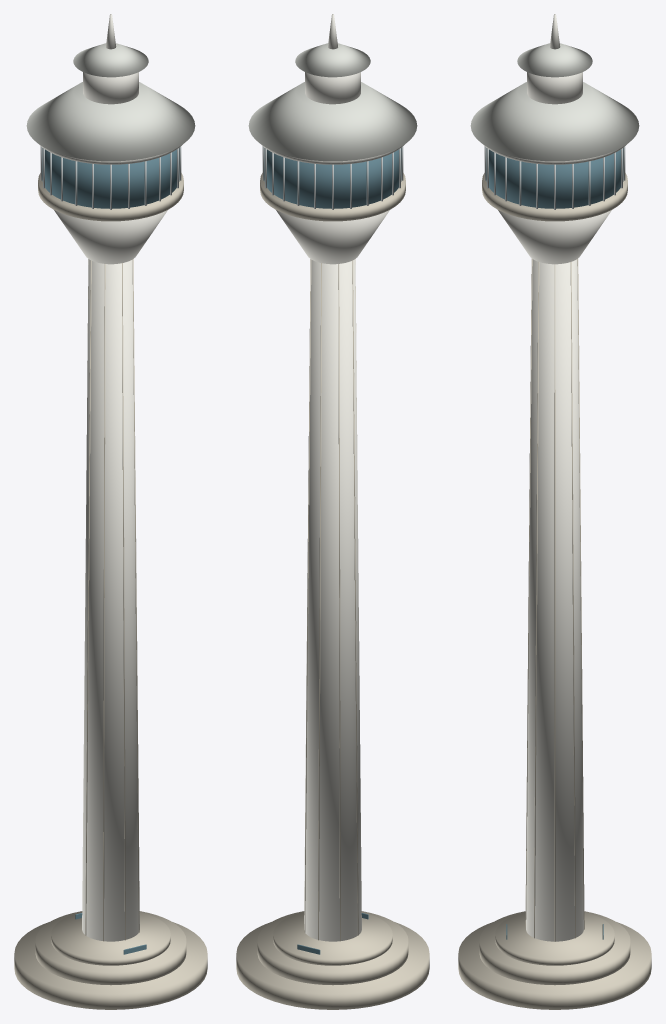
Rendered from BusanTower.fbx.
3 renders of one model, left to right at view 1: azimuth 30°, elevation 25°; view 2: azimuth 150°, elevation 25°; view 3: azimuth 270°, elevation 25°, orthographic.
Parts seen in each view (by area): view 1: Slender tapering shaft, Circular podium, Pagoda inspired crown, Panoramic observation glazing, Observation mullion; view 2: Slender tapering shaft, Circular podium, Pagoda inspired crown, Panoramic observation glazing, Observation mullion; view 3: Slender tapering shaft, Circular podium, Pagoda inspired crown, Panoramic observation glazing, Observation mullion.
Part boxes in pixels (x1,y1,x2,y2): Slender tapering shaft: [39, 14, 182, 941]; Circular podium: [14, 173, 207, 1009]; Pagoda inspired crown: [26, 43, 195, 161]; Panoramic observation glazing: [42, 148, 179, 954]; Observation mullion: [40, 146, 181, 209]; Slender tapering shaft: [261, 14, 404, 941]; Circular podium: [236, 173, 429, 1009]; Pagoda inspired crown: [248, 43, 417, 161]; Panoramic observation glazing: [264, 148, 401, 954]; Observation mullion: [262, 146, 403, 209]; Slender tapering shaft: [483, 14, 626, 941]; Circular podium: [458, 173, 651, 1009]; Pagoda inspired crown: [470, 43, 639, 161]; Panoramic observation glazing: [486, 148, 623, 939]; Observation mullion: [484, 146, 625, 209].
Bounding box in the file's own units: 2200 × 12000 × 2200.
